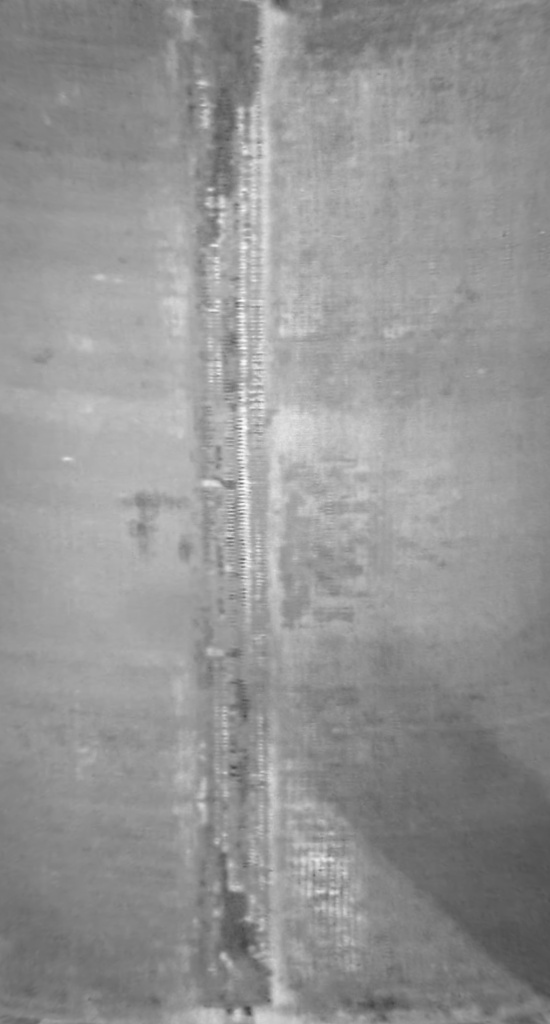splice: (178, 1, 275, 1020)
